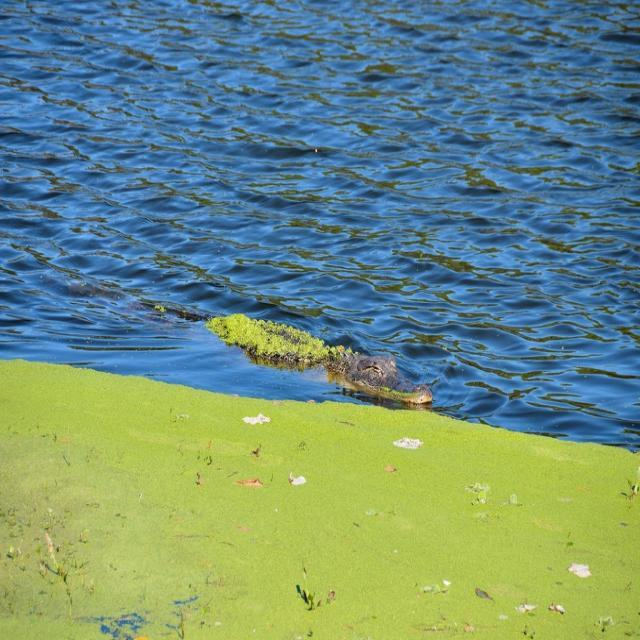crocodile: (213, 301, 436, 410)
